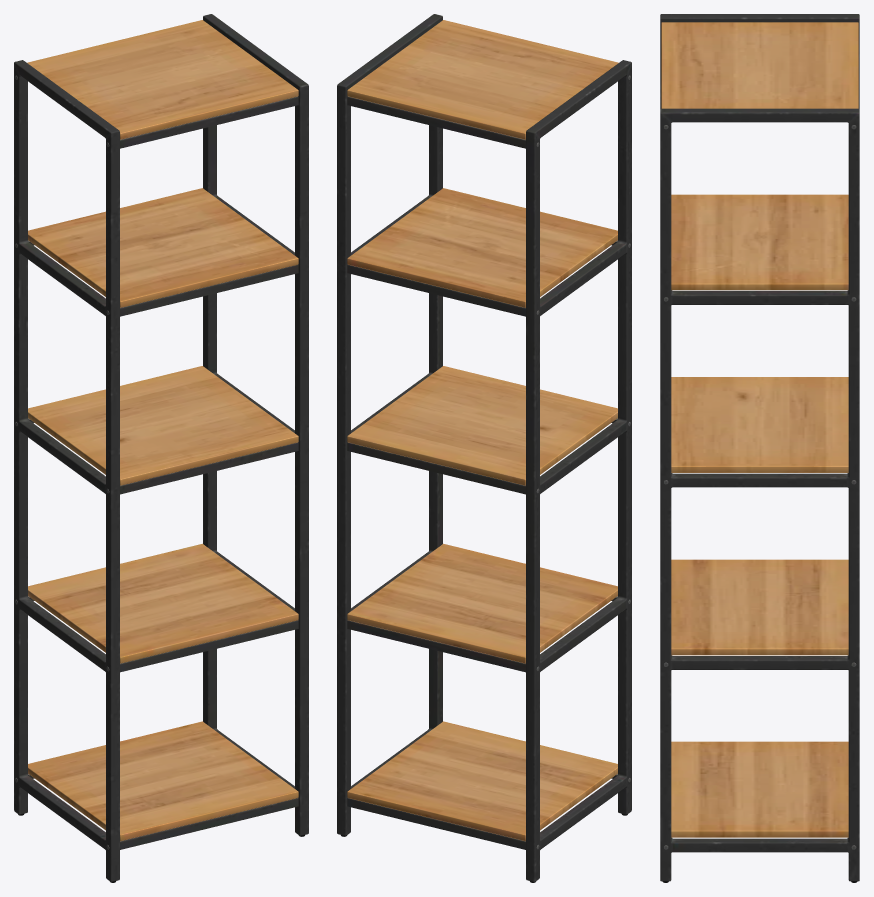
The model's file is steel_frame_shelves_02.glb.
The picture shows the model from 3 angles, left to right: view 1: azimuth 30°, elevation 25°; view 2: azimuth 150°, elevation 25°; view 3: azimuth 270°, elevation 25°; orthographic projection. The views are drawn at different scales.
Visible parts, largest first — view 1: steel_frame_shelves_02; view 2: steel_frame_shelves_02; view 3: steel_frame_shelves_02.
Boxes of the visible parts, x1,y1,x2,y2 form: steel_frame_shelves_02: (14,14,308,882); steel_frame_shelves_02: (337,14,631,882); steel_frame_shelves_02: (660,14,859,882).
Bounding box in the file's own units: 0.5933 × 2.14 × 0.5024.
Materials: 1 (1 with a texture image).
